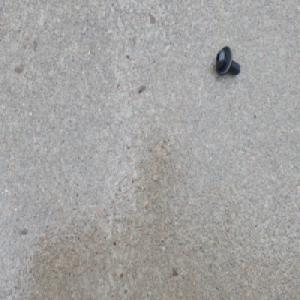BoltWasher: (214, 46, 240, 78)
